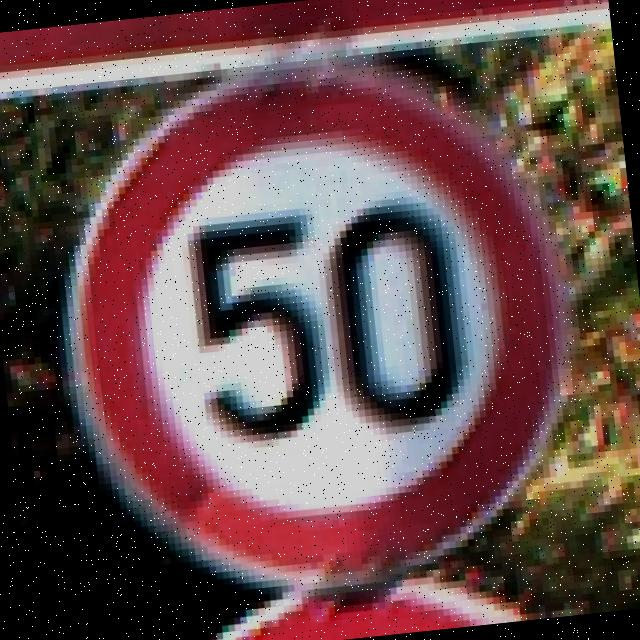Ograniczenie predkosci do 50: (45, 44, 580, 607)
